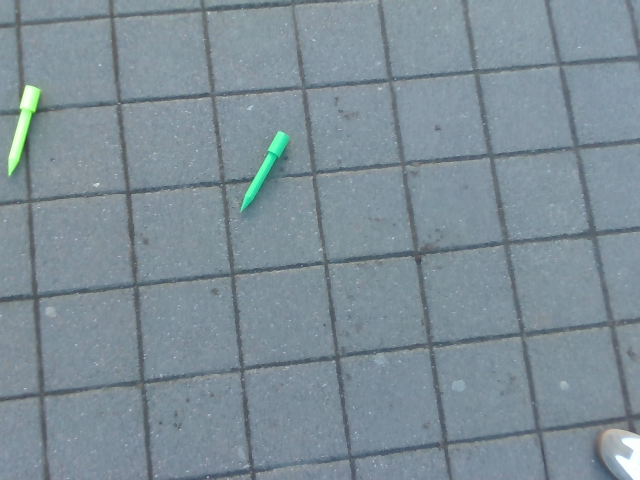Probe: (235, 126, 296, 216), (1, 77, 48, 177)
